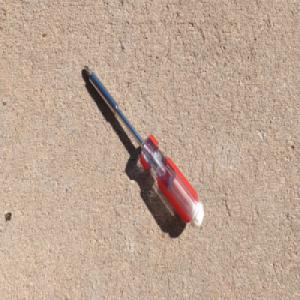Screwdriver: (82, 62, 205, 230)
